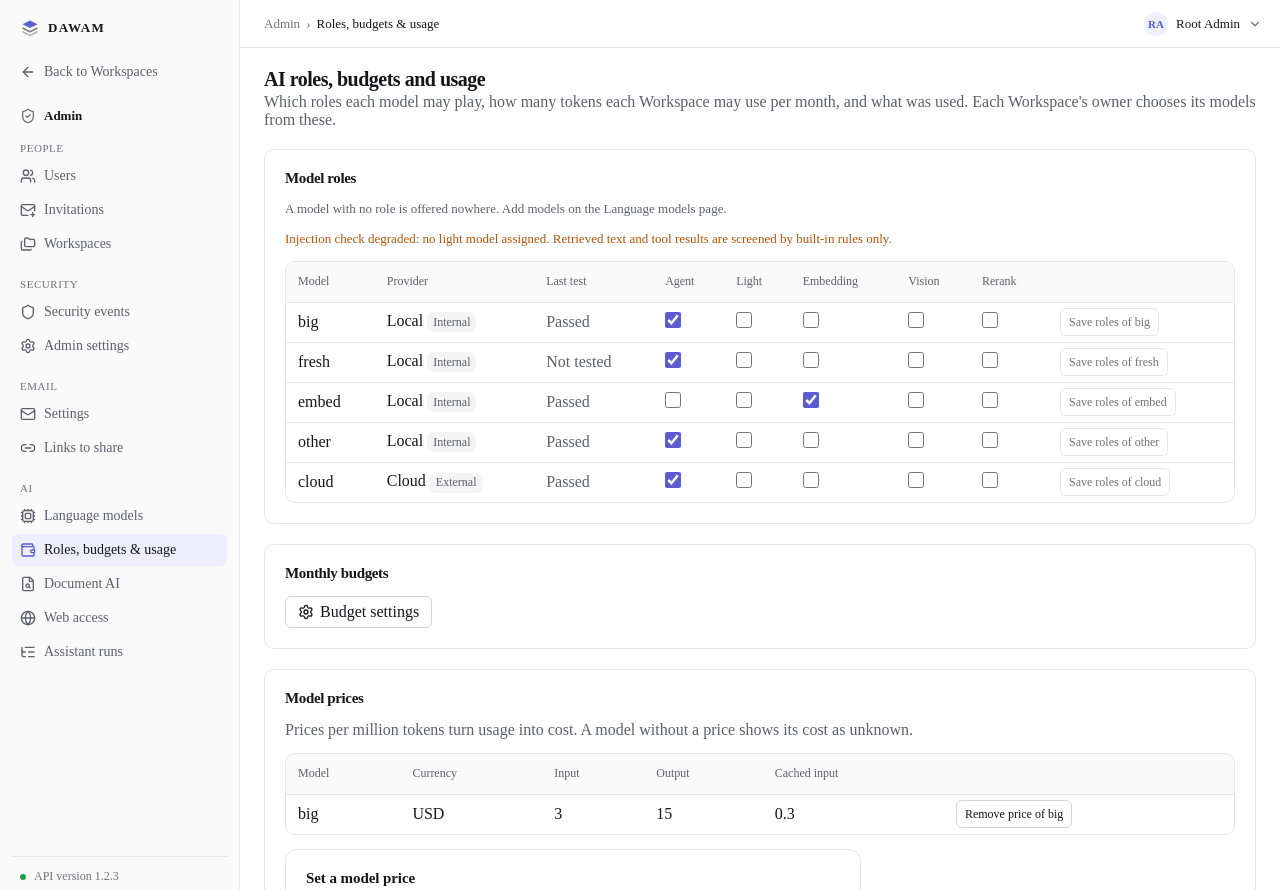
AI roles, budgets and usage page › shows the refusal when a role cannot be saved
Click the checkbox named "Embedding role of big".
click(811, 320)  # box [803,312,819,328]
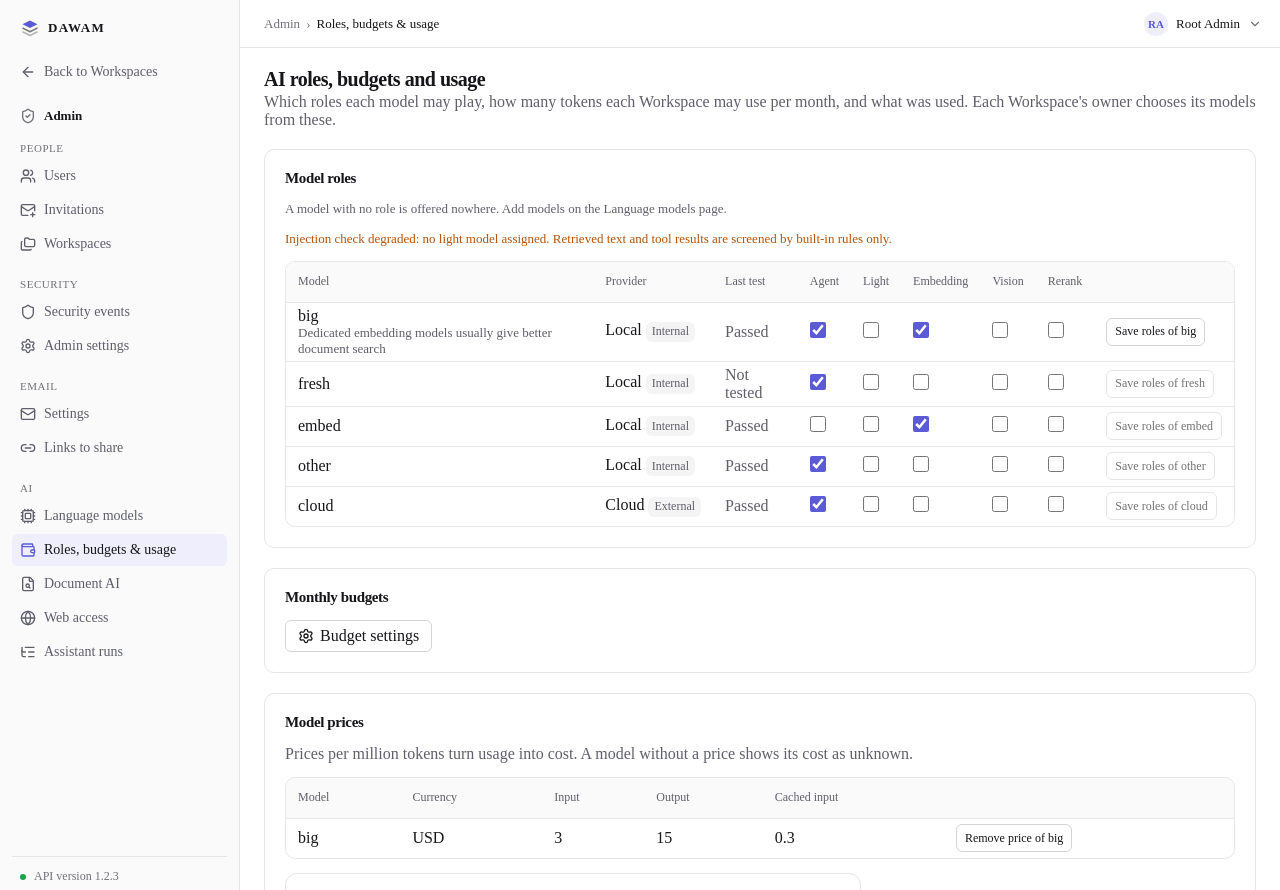
Click the button "Save roles of big".
click(1156, 332)  # box [1106,318,1205,346]
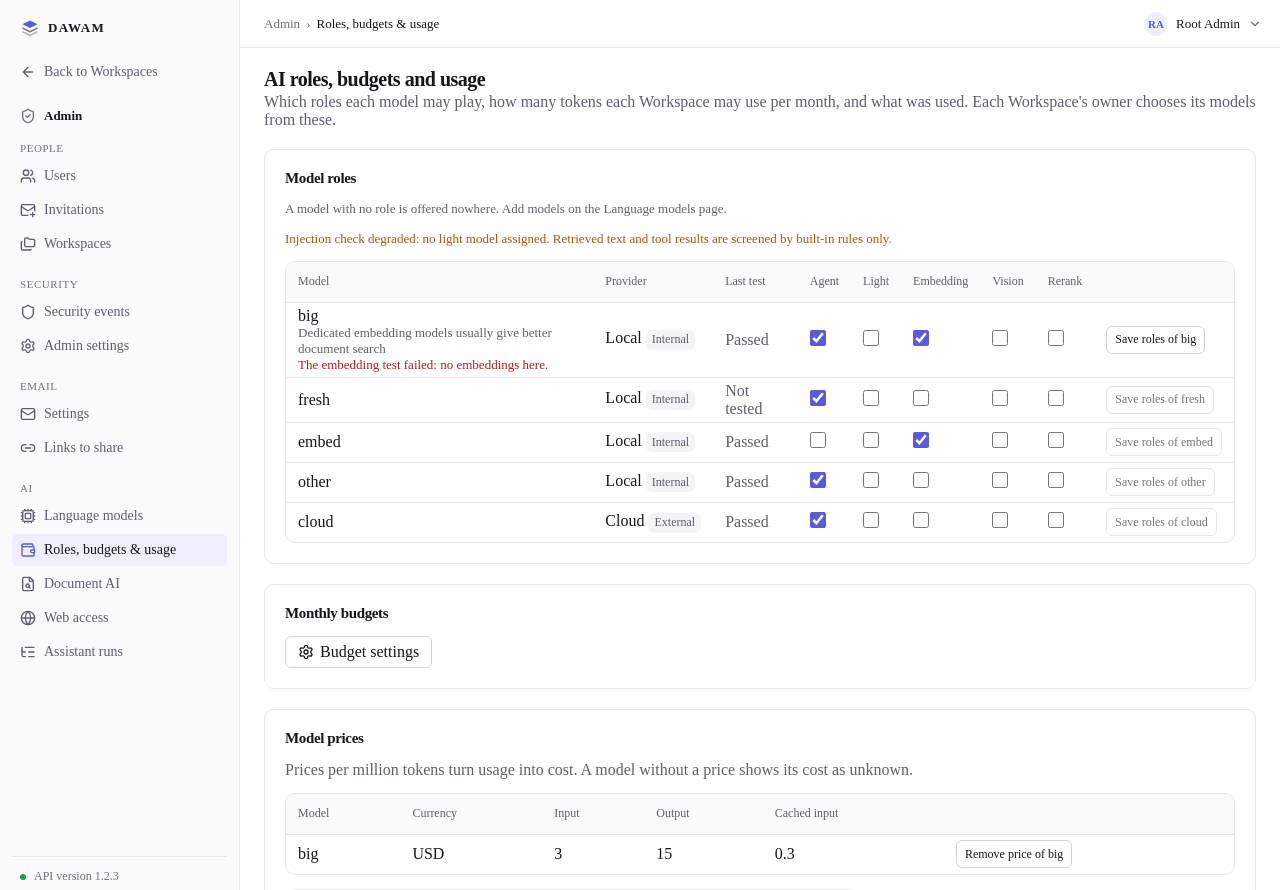
Now the text "The embedding test failed: no embeddings here." is shown, box [298,356,581,372]
